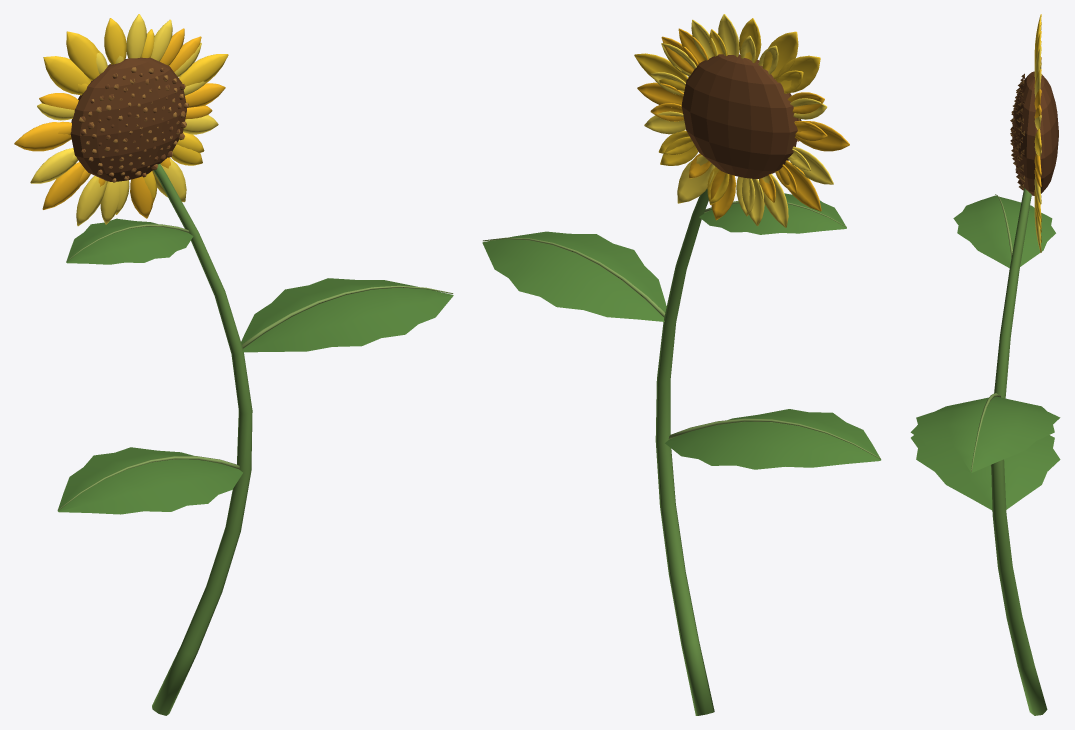
Rendered from sunflower-v2-bloom-3-0.glb.
3 renders of one model, left to right at view 1: azimuth 30°, elevation 25°; view 2: azimuth 150°, elevation 25°; view 3: azimuth 270°, elevation 25°, orthographic. The views are drawn at different scales.
Parts seen in each view (by area): view 1: Curved tapered stem; view 2: Curved tapered stem; view 3: Curved tapered stem.
Part boxes in pixels (box(x1,y1,x2,y2)): Curved tapered stem: box(14, 14, 453, 715); Curved tapered stem: box(482, 14, 881, 715); Curved tapered stem: box(910, 14, 1060, 715).
Size of the model in its own units: 0.4217 by 0.7094 by 0.1462.
